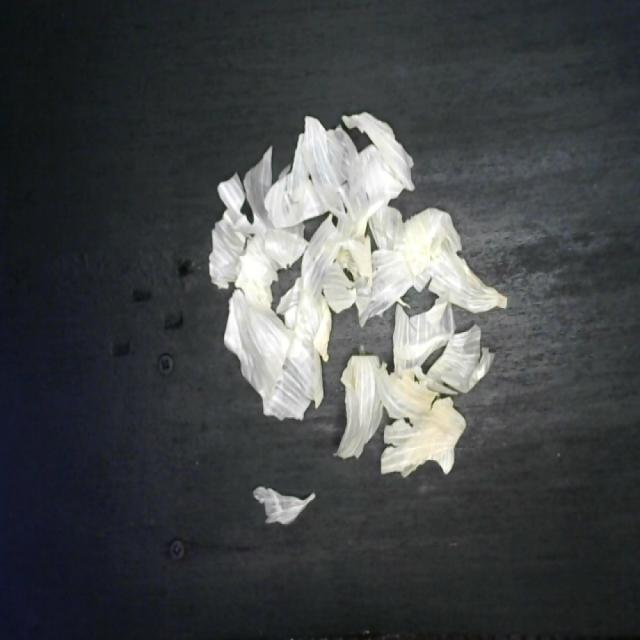biodegradable: (206, 97, 511, 487)
